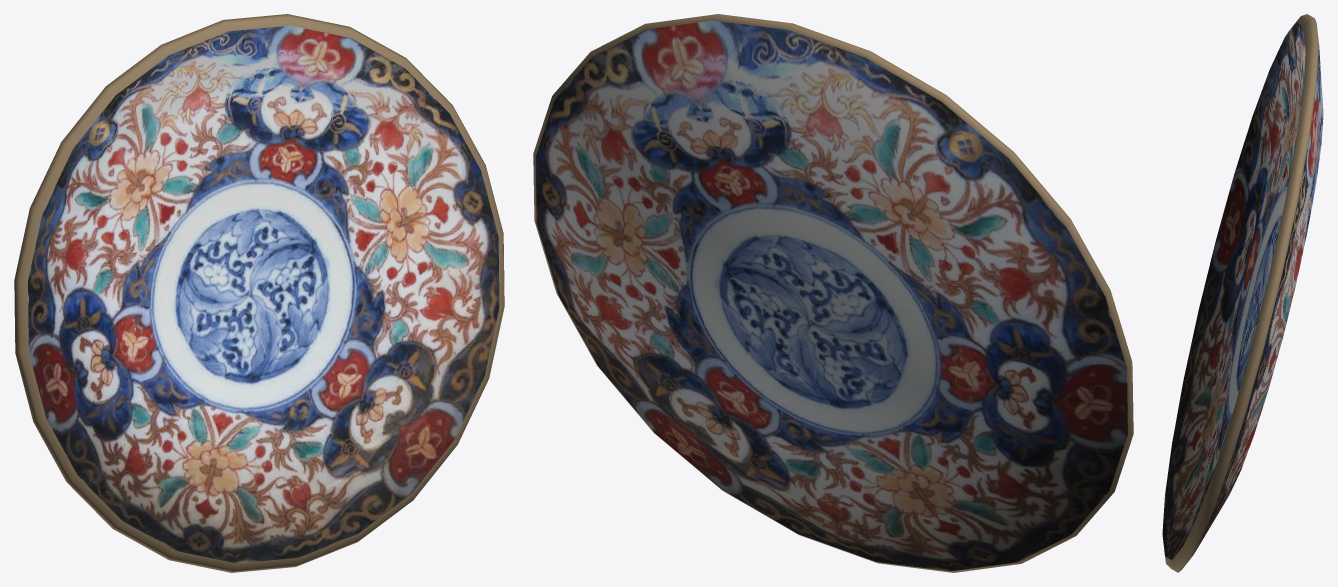
The model's file is Plate1.e.fbx.
The picture shows the model from 3 angles, left to right: view 1: azimuth 30°, elevation 25°; view 2: azimuth 150°, elevation 25°; view 3: azimuth 270°, elevation 25°; orthographic projection. The views are drawn at different scales.
Parts seen in each view (by area): view 1: Group 0; view 2: Group 0; view 3: Group 0.
Part boxes in pixels (<box>): Group 0: <box>14,14,504,572</box>; Group 0: <box>533,14,1133,572</box>; Group 0: <box>1162,14,1323,572</box>.
Bounding box in the file's own units: 26.86 × 25.94 × 7.5.
1 material, 1 textured.
